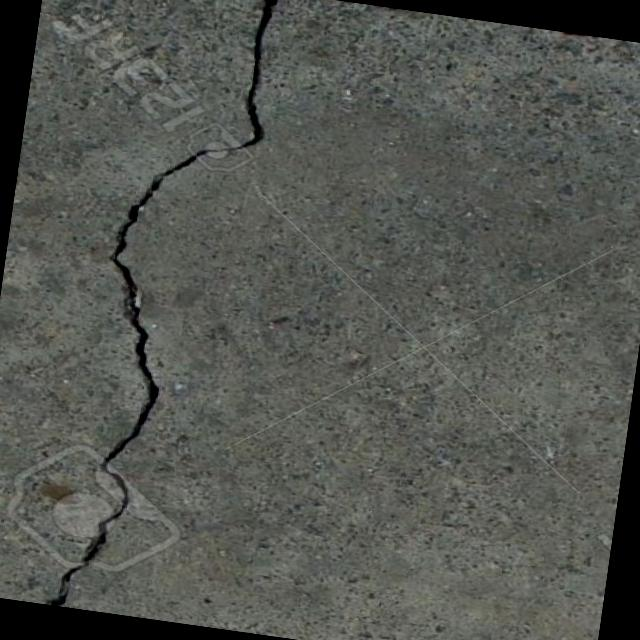crack: (44, 0, 283, 625)
